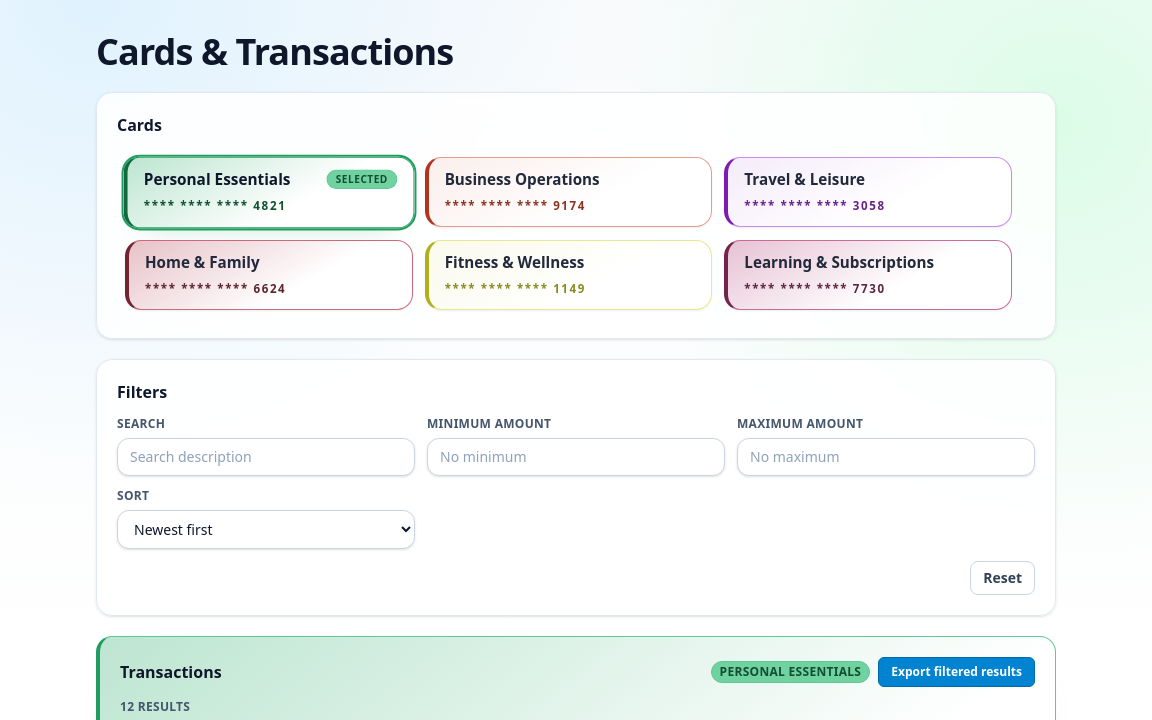
Test: CardsOverview integration › creates active amount filter chips when filtering
The width and height of the screenshot is (1152, 720).
Type "120" into the number field labelled "Minimum amount" at (576, 457), box [427,438,725,476]
(page scrolled)
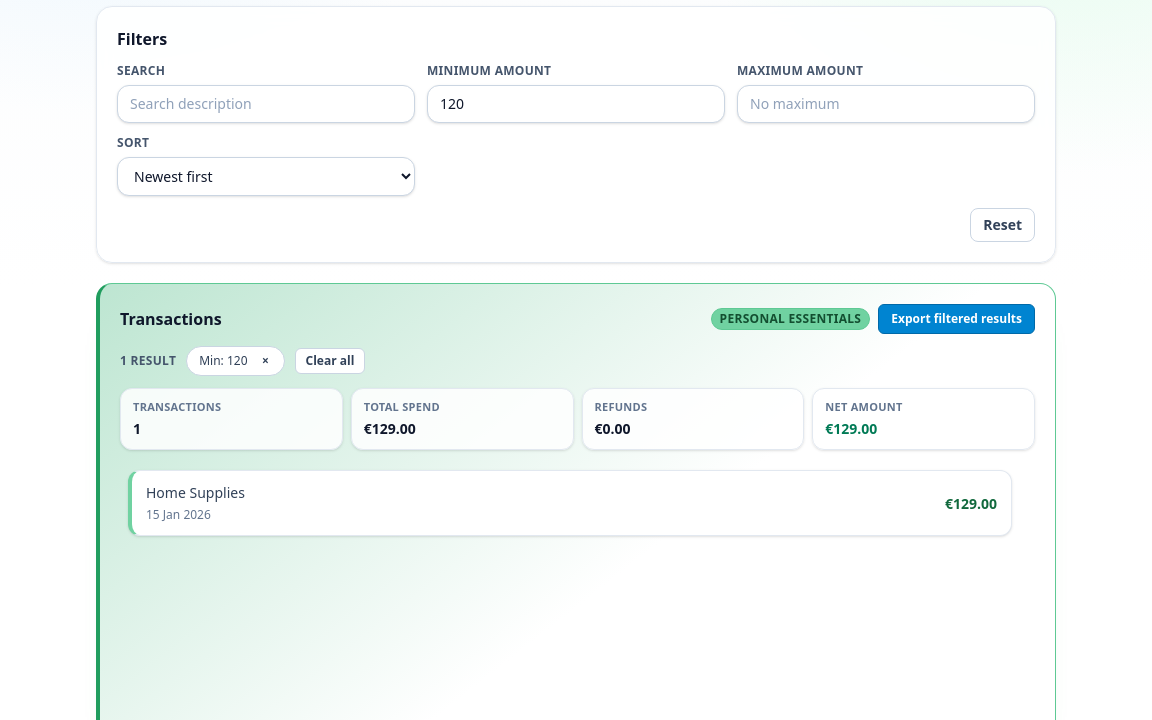
expect the text "Min: 120" is shown: met, box [199,353,248,369]
expect the text "1 result" is shown: met, box [120,353,176,369]
